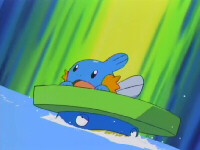mudkip: (58, 50, 145, 100)
